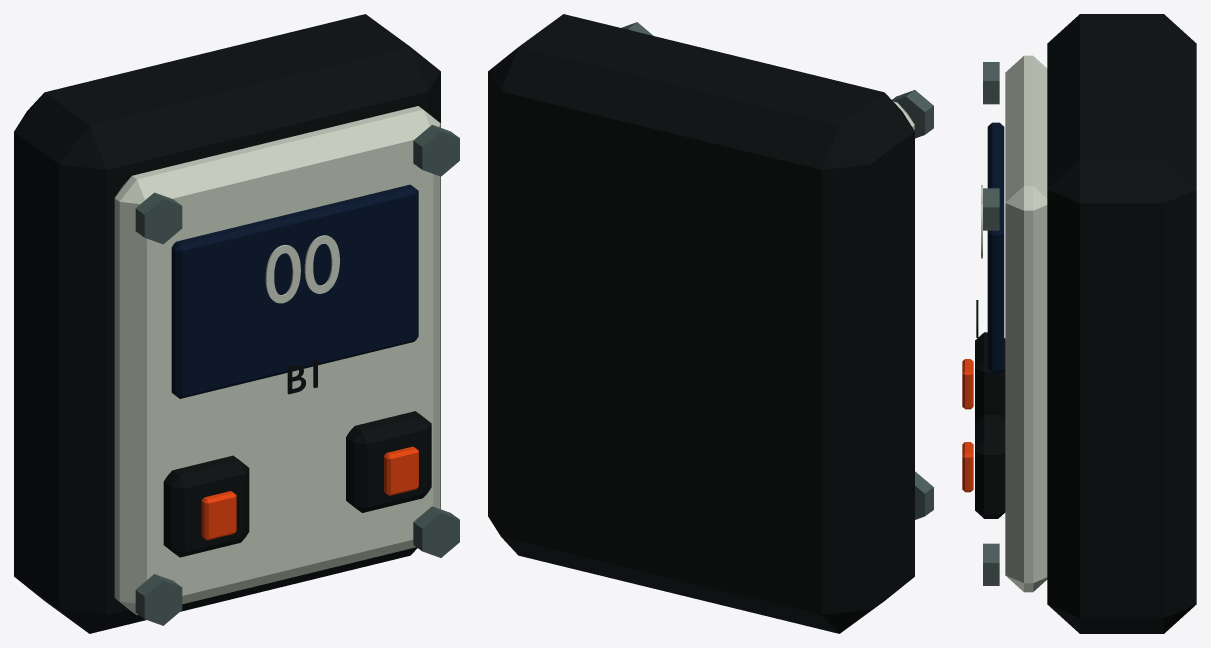
The model's file is SM_MP_Station_LiftPanel.fbx.
3 views of the same model, side by side, from view 1: azimuth 30°, elevation 25°; view 2: azimuth 150°, elevation 25°; view 3: azimuth 270°, elevation 25° (orthographic). The views are drawn at different scales.
Parts seen in each view (by area): view 1: SM_MP_Station_LiftPanel; view 2: SM_MP_Station_LiftPanel; view 3: SM_MP_Station_LiftPanel.
Boxes of the visible parts, box(x1,y1,x2,y2) form: SM_MP_Station_LiftPanel: box(14, 14, 459, 633); SM_MP_Station_LiftPanel: box(488, 14, 933, 633); SM_MP_Station_LiftPanel: box(962, 14, 1196, 633).
Size of the model in its own units: 44 by 25.1 by 56.
Materials: 1 (1 with a texture image).
